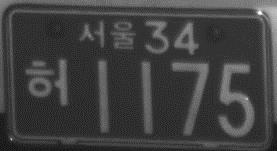1: (138, 60, 158, 136), (94, 56, 113, 134)
3: (143, 19, 170, 55)
4: (173, 22, 199, 56)
5: (217, 61, 258, 138)
7: (169, 60, 212, 136)
서울_O: (78, 20, 137, 53)
허: (26, 55, 70, 110)
